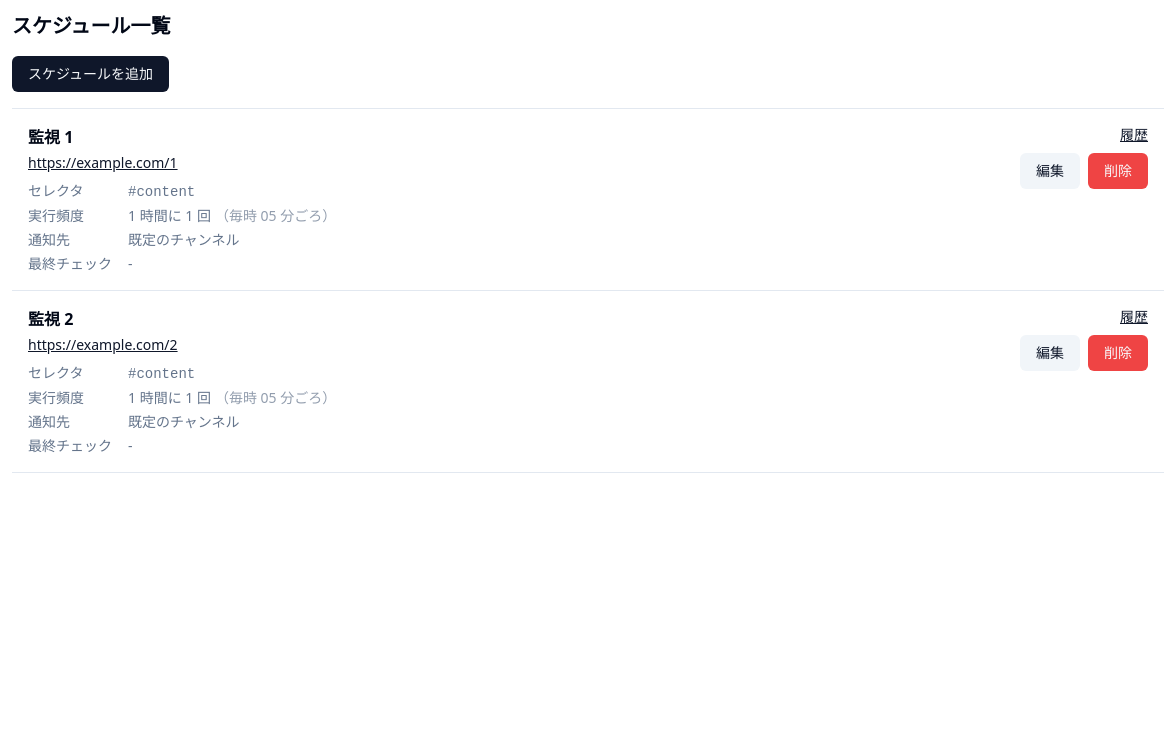
Test: ScheduleList — exclusive editing › discards the draft on cancel without writing anything
expect the heading "監視 1" is shown: met, box top-left (28, 126), bottom-right (73, 148)
Click the button "編集" in the row of "https://example.com/1" at (1050, 171), box top-left (1020, 153), bottom-right (1080, 189)
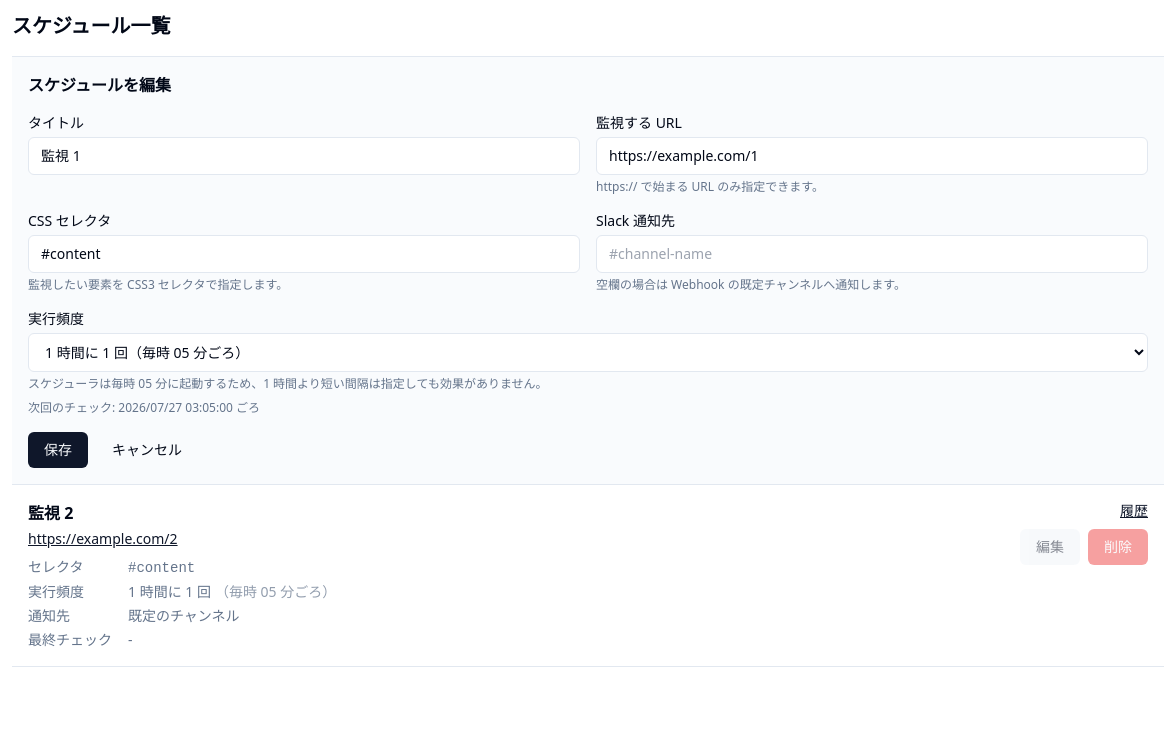
expect the heading "スケジュールを編集" is shown: met, box top-left (28, 74), bottom-right (171, 96)
Replace the text in the field labelled "タイトル" with "書き換えた" at (304, 156), box top-left (28, 137), bottom-right (580, 175)
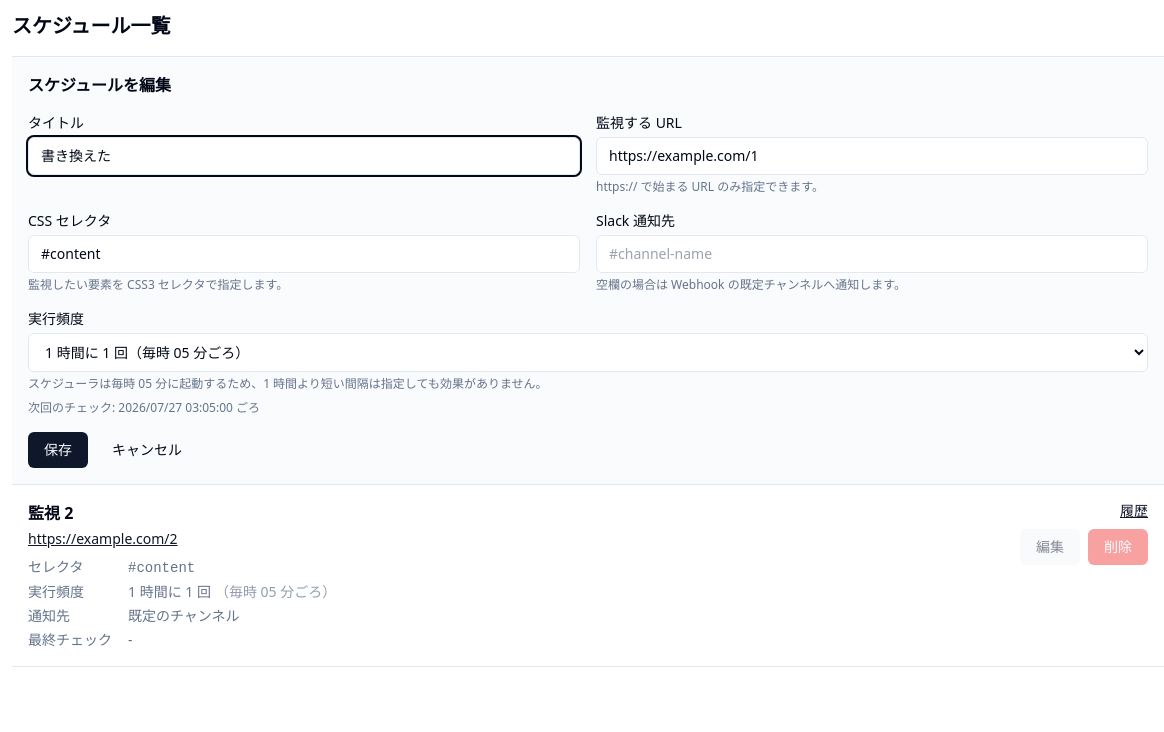
Click the button "キャンセル" at (147, 450), box top-left (96, 432), bottom-right (198, 468)
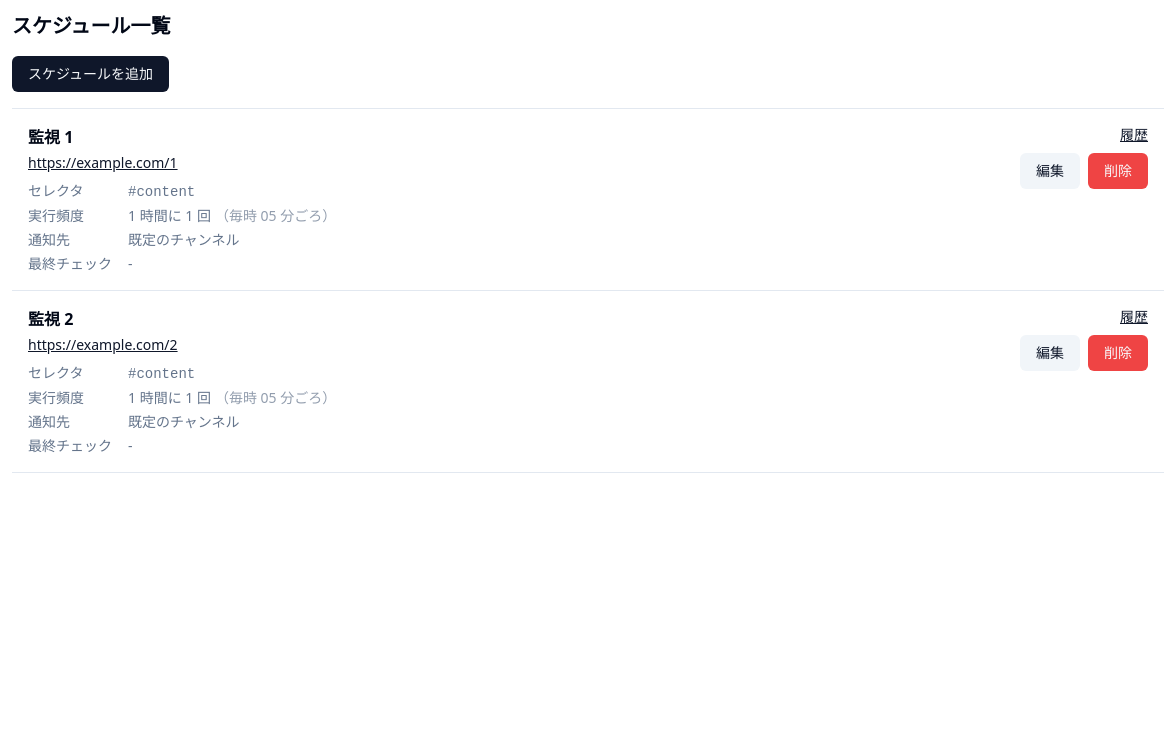
expect the text "書き換えた" is not shown: met
expect the heading "監視 1" is shown: met, box top-left (28, 126), bottom-right (73, 148)
